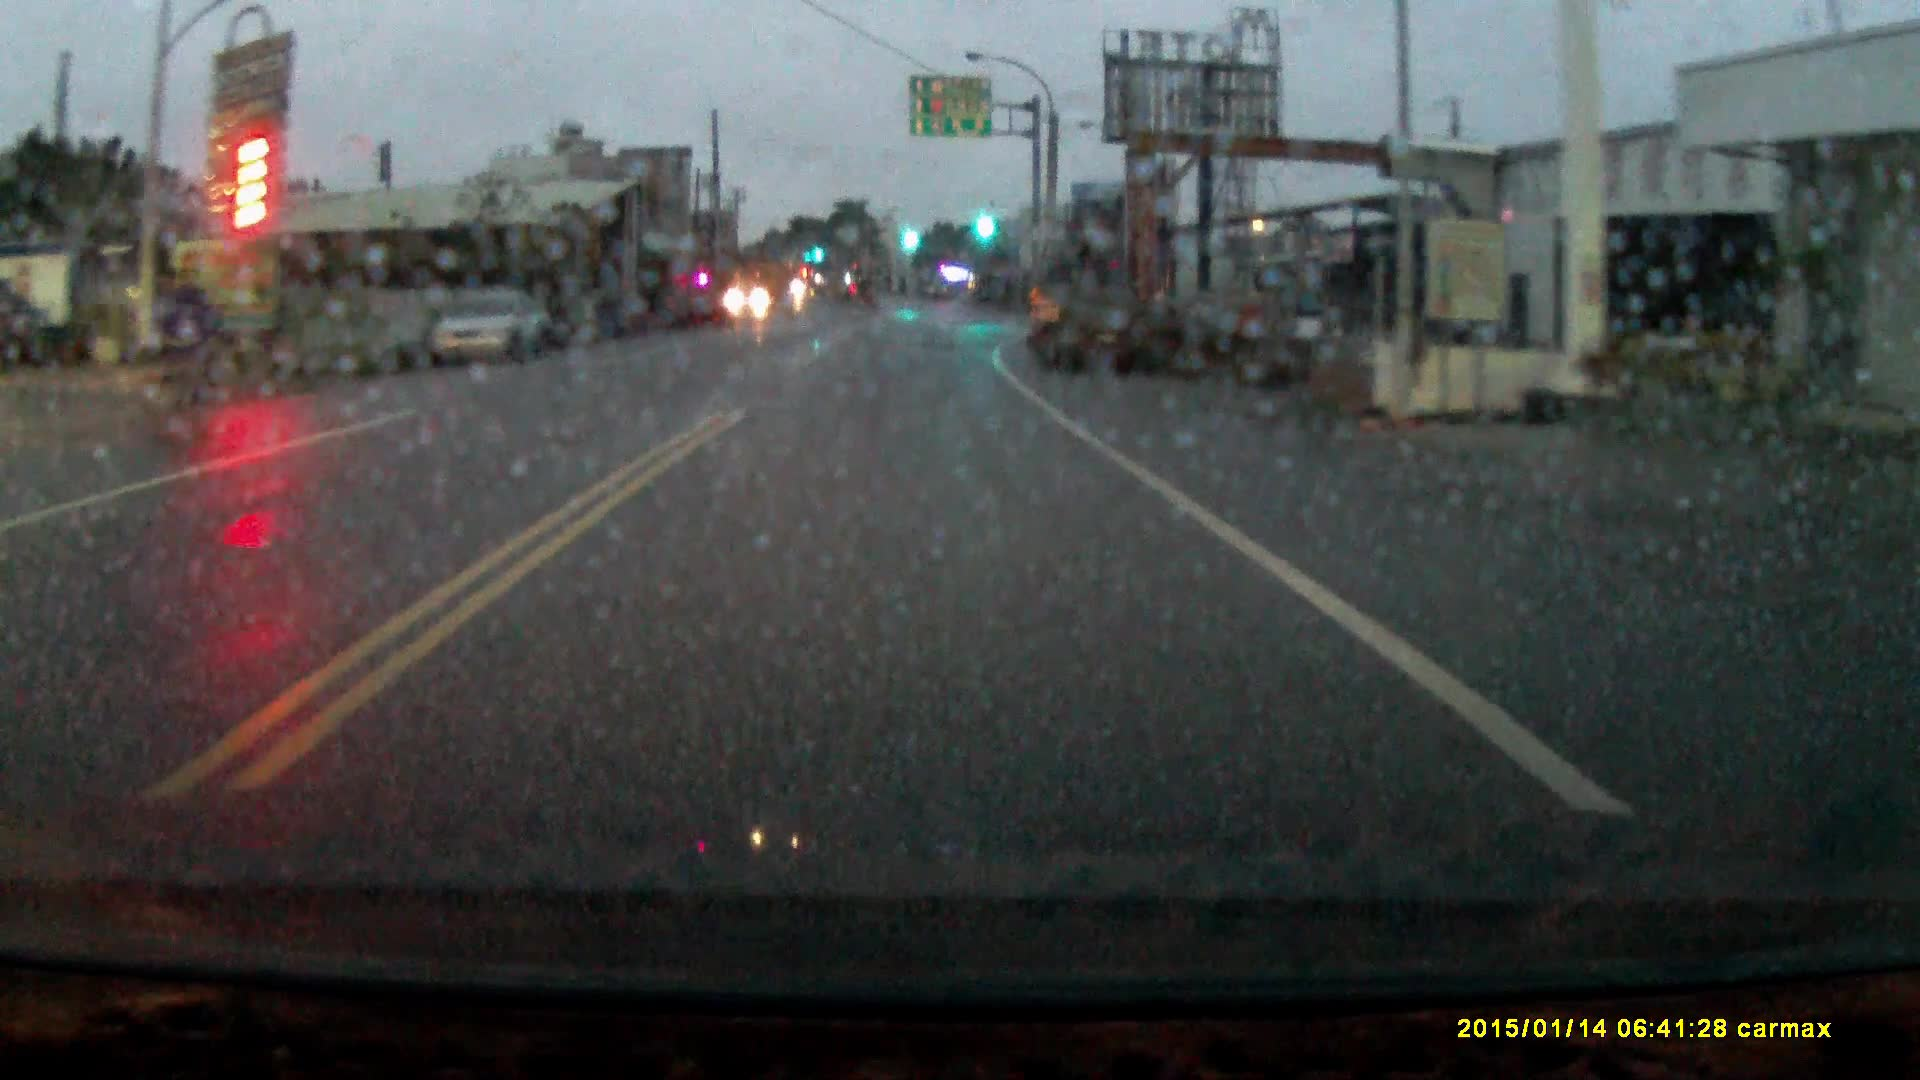rider: (132, 253, 235, 463)
vehicle: (1029, 259, 1147, 379), (427, 293, 554, 365), (723, 261, 790, 324)
